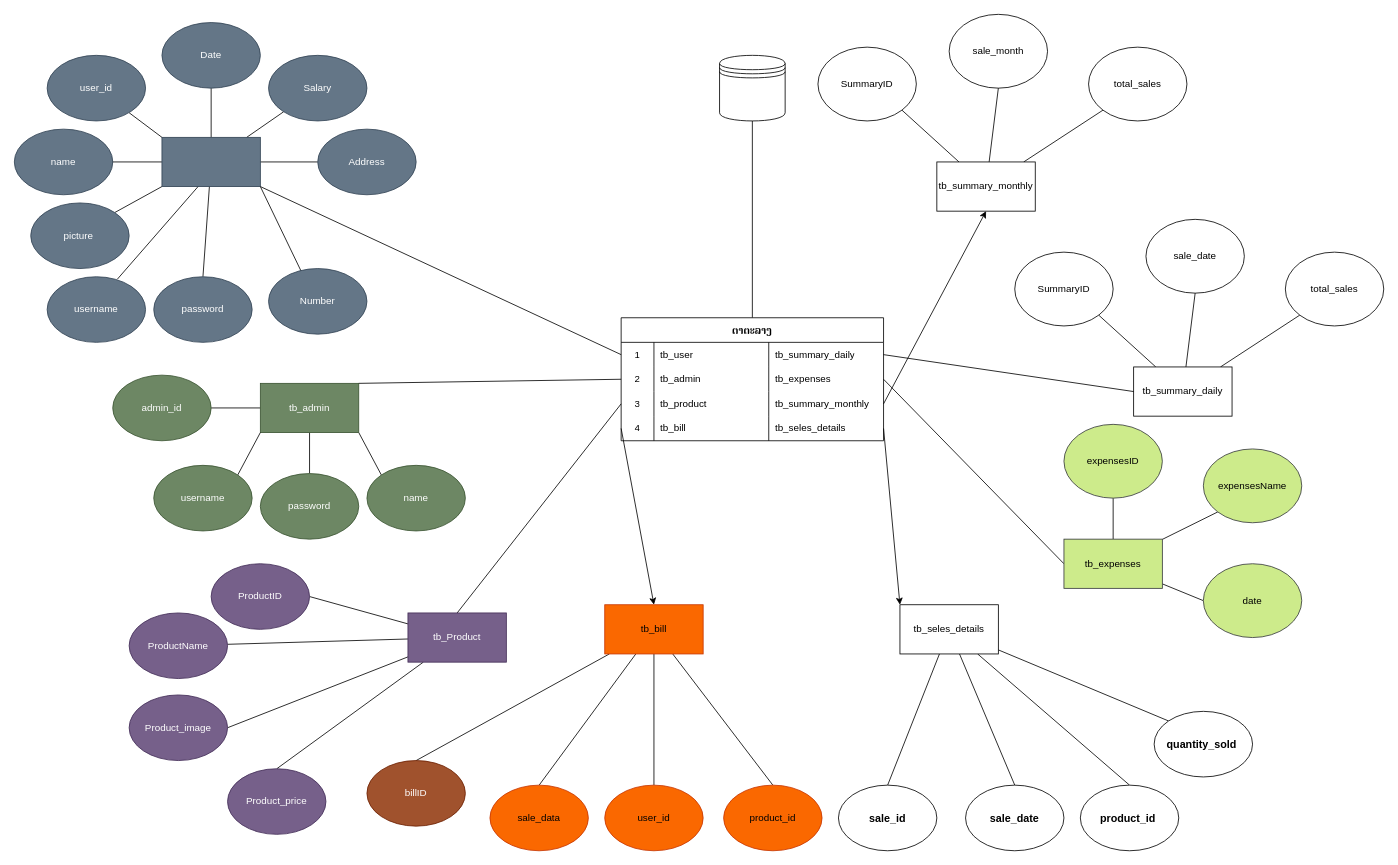
This 1398x865 diagram has some shape labels left out. The shapes that lost their labels are listed below. From the top down, each one's centre as x and y in pixels, then its label:
pixel 752 88: db_katecafe
pixel 210 162: tb_users
